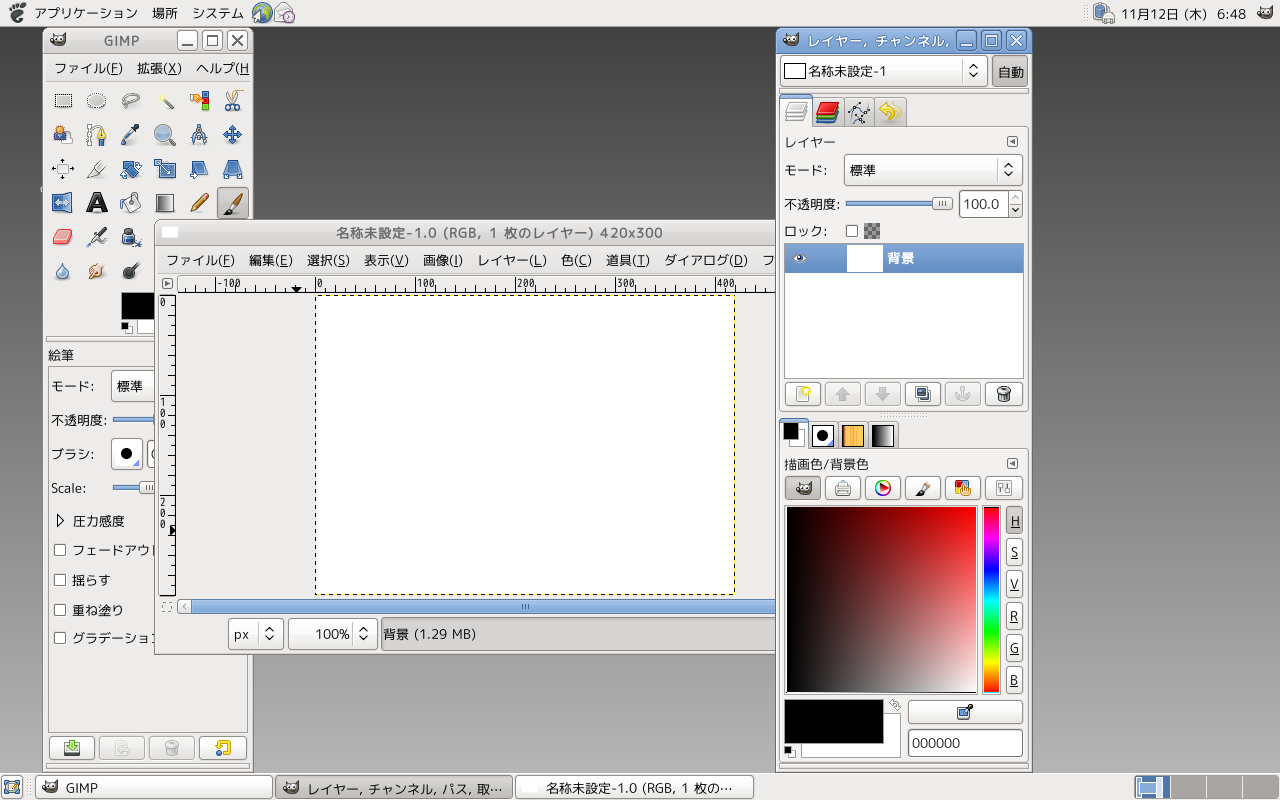button: (784, 506, 977, 693), (192, 600, 775, 614), (780, 54, 988, 85), (34, 774, 274, 799), (514, 775, 755, 799), (845, 155, 1023, 187), (274, 776, 514, 798), (784, 699, 883, 743), (981, 503, 1003, 695), (287, 616, 379, 649), (908, 700, 1023, 726), (35, 1, 145, 27), (45, 56, 128, 82), (160, 249, 238, 272), (657, 252, 751, 271), (227, 619, 284, 650), (190, 54, 253, 80), (470, 251, 552, 270), (185, 1, 245, 26), (130, 56, 188, 81), (46, 734, 96, 763), (198, 736, 250, 763), (97, 736, 148, 762), (800, 741, 900, 754), (148, 736, 196, 763), (992, 55, 1031, 87), (354, 251, 415, 271), (243, 250, 296, 273), (111, 436, 144, 472), (301, 250, 353, 272), (942, 381, 984, 408), (983, 381, 1025, 408), (777, 95, 813, 126), (599, 251, 657, 270), (783, 381, 823, 408), (862, 380, 903, 406), (823, 380, 861, 408), (904, 381, 943, 408), (904, 474, 943, 501), (984, 475, 1024, 501), (415, 251, 469, 270), (865, 474, 903, 501), (944, 475, 983, 501), (146, 1, 186, 26), (149, 120, 181, 151), (115, 223, 149, 252), (874, 96, 908, 125), (825, 475, 862, 501), (115, 186, 147, 216), (812, 96, 844, 126), (121, 292, 155, 320), (784, 475, 822, 500), (1242, 775, 1278, 800), (838, 419, 869, 448), (1136, 775, 1171, 800), (1208, 775, 1243, 800), (779, 419, 808, 449), (869, 420, 900, 448), (1171, 775, 1207, 799), (2, 1, 35, 27), (1087, 1, 1120, 27), (115, 258, 148, 284), (553, 251, 598, 270), (47, 188, 77, 216), (844, 97, 874, 125), (809, 419, 839, 447), (219, 120, 247, 149), (82, 188, 111, 216), (219, 189, 248, 217), (48, 256, 77, 284), (81, 257, 111, 284), (48, 223, 77, 250), (220, 87, 247, 115), (151, 155, 179, 182), (219, 156, 247, 183), (117, 156, 146, 182), (83, 224, 112, 250), (184, 190, 214, 215), (49, 156, 77, 182), (186, 87, 213, 113), (246, 1, 274, 26), (84, 120, 108, 149), (1, 774, 27, 800), (51, 122, 77, 147), (153, 189, 178, 215), (186, 121, 210, 148), (43, 30, 71, 53), (274, 1, 298, 27), (188, 157, 212, 182), (1004, 665, 1024, 695), (119, 121, 142, 147), (1004, 569, 1025, 597), (84, 158, 108, 182), (1252, 1, 1278, 23), (1005, 537, 1024, 567), (928, 193, 956, 213), (1005, 506, 1025, 534), (225, 29, 248, 52), (200, 29, 224, 51), (154, 90, 178, 112), (980, 30, 1004, 52), (1005, 602, 1023, 631), (50, 508, 69, 535), (1001, 131, 1024, 153), (119, 90, 143, 111), (954, 31, 978, 52), (1005, 31, 1029, 52), (1005, 635, 1023, 662), (177, 30, 199, 51), (85, 90, 108, 110), (779, 31, 802, 49), (53, 91, 74, 110), (155, 275, 177, 293), (886, 697, 905, 715), (52, 570, 69, 589), (52, 600, 68, 619), (135, 320, 155, 335), (51, 542, 68, 559), (1004, 454, 1020, 472), (118, 320, 135, 336), (52, 630, 68, 646), (844, 223, 860, 239), (782, 745, 798, 761), (782, 223, 797, 239), (1009, 189, 1024, 204), (178, 600, 192, 615), (1010, 204, 1025, 218)
common: (1120, 1, 1250, 23), (382, 623, 485, 646), (50, 408, 110, 434), (69, 542, 153, 560), (781, 156, 839, 180), (782, 131, 844, 152), (50, 441, 100, 467), (71, 510, 130, 532), (781, 193, 844, 213), (49, 476, 95, 502), (72, 631, 150, 646), (51, 373, 97, 397), (69, 602, 126, 620), (883, 247, 923, 270), (70, 570, 115, 588), (796, 222, 829, 239)
container: (1, 28, 1280, 774), (154, 218, 777, 654), (155, 273, 777, 614), (776, 28, 1032, 770), (41, 26, 253, 769), (777, 55, 1031, 414), (775, 420, 1030, 772), (42, 341, 252, 736), (42, 82, 254, 339), (1, 774, 1280, 800), (1, 1, 1280, 26), (785, 245, 1025, 378), (1, 1, 1087, 28), (155, 616, 777, 651), (154, 247, 777, 276), (154, 219, 777, 246), (777, 156, 1031, 190), (780, 378, 1029, 410), (43, 732, 251, 769), (777, 97, 1030, 127), (777, 28, 1032, 55), (777, 129, 1030, 156), (785, 246, 1022, 272), (43, 54, 255, 81), (43, 27, 254, 54), (1086, 1, 1279, 25), (779, 419, 901, 449), (844, 193, 957, 216), (52, 507, 135, 535), (51, 628, 152, 651), (50, 541, 154, 562), (959, 190, 1027, 220), (53, 600, 128, 623), (52, 571, 116, 591), (778, 219, 836, 241), (843, 222, 885, 239), (787, 246, 810, 271)
header: (331, 222, 668, 245), (805, 31, 955, 52), (782, 454, 874, 475), (100, 30, 146, 53), (45, 345, 77, 365)
image: (177, 294, 773, 600), (846, 244, 884, 272), (861, 220, 883, 239)
text-input: (908, 729, 1023, 756), (959, 190, 1009, 217)
